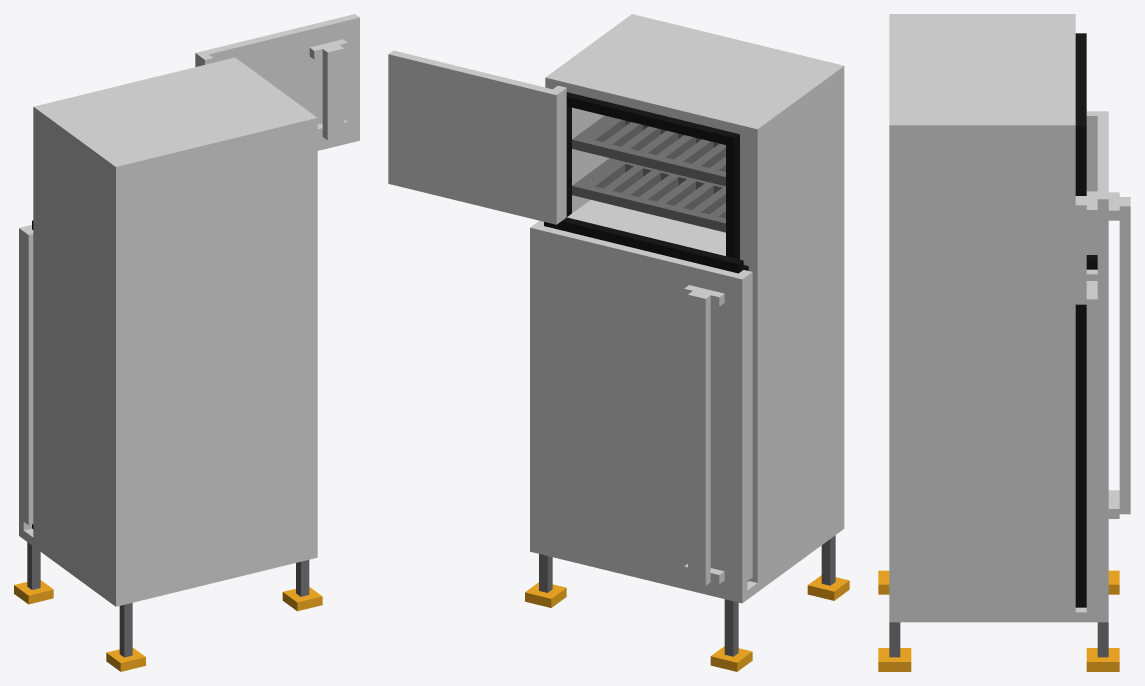
The model's file is OpenFreezer.obj.
3 views of the same model, side by side, from view 1: azimuth 30°, elevation 25°; view 2: azimuth 150°, elevation 25°; view 3: azimuth 270°, elevation 25° (orthographic). The views are drawn at different scales.
Bounding box in the file's own units: 40 × 57 × 23.
Materials: 1 (1 with a texture image).
